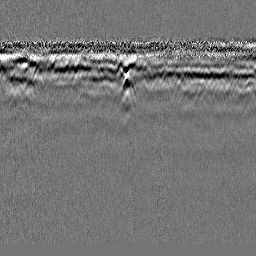cavity: (118, 71, 137, 102)
